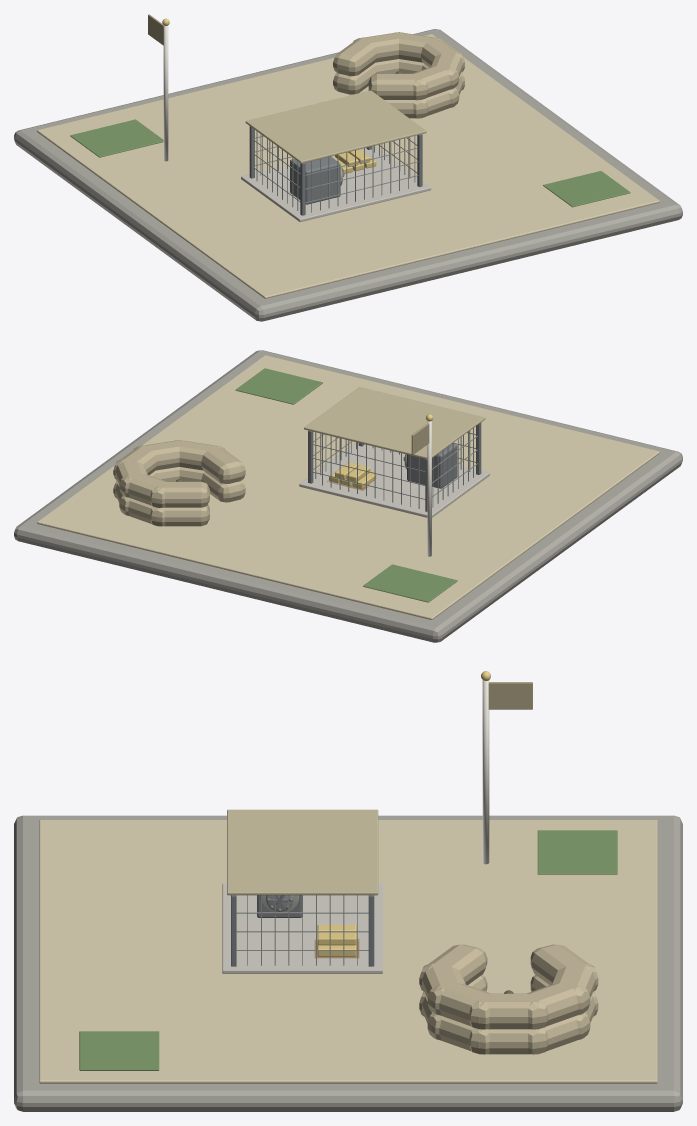
Rendered from goldvault_1.glb.
3 views of the same model, one above another, from view 1: azimuth 30°, elevation 25°; view 2: azimuth 150°, elevation 25°; view 3: azimuth 270°, elevation 25° (orthographic). The views are drawn at different scales.
Visible parts, largest first — view 1: Cube.001, Cube, Cube.067, Cube.004, Cube.002, Cube.003, Cube.068, Cube.087, Cube.085, Cube.089, Cylinder.002, Cube.083 (+5 smaller); view 2: Cube.001, Cube, Cube.067, Cube.004, Cube.002, Cube.003, Cube.068, Cube.085, Cube.087, Cube.084, Cube.083, Cube.089 (+6 smaller); view 3: Cube.001, Cube, Cube.067, Cube.004, Cube.002, Cube.003, Cube.079, Cube.081, Cube.091, Cube.078, Cube.085, Cube.087 (+6 smaller).
Boxes of the visible parts, bbox=[...] form: Cube.001: bbox=[37, 34, 659, 298]; Cube: bbox=[14, 29, 682, 321]; Cube.067: bbox=[245, 90, 426, 163]; Cube.004: bbox=[241, 146, 431, 221]; Cube.002: bbox=[70, 119, 163, 157]; Cube.003: bbox=[543, 171, 630, 207]; Cube.068: bbox=[290, 156, 340, 204]; Cube.087: bbox=[368, 73, 428, 99]; Cube.085: bbox=[333, 37, 377, 76]; Cube.089: bbox=[412, 64, 459, 100]; Cylinder.002: bbox=[163, 25, 168, 161]; Cube.083: bbox=[353, 32, 404, 62]; Cube.001: bbox=[37, 355, 659, 619]; Cube: bbox=[14, 350, 682, 642]; Cube.067: bbox=[304, 387, 485, 459]; Cube.004: bbox=[299, 442, 489, 517]; Cube.002: bbox=[363, 564, 457, 602]; Cube.003: bbox=[235, 368, 322, 404]; Cube.068: bbox=[407, 443, 457, 488]; Cube.085: bbox=[150, 481, 209, 507]; Cube.087: bbox=[201, 445, 245, 483]; Cube.084: bbox=[150, 504, 209, 526]; Cube.083: bbox=[119, 472, 169, 507]; Cube.089: bbox=[173, 440, 224, 470]; Cube.001: bbox=[39, 820, 657, 1083]; Cube: bbox=[14, 815, 682, 1111]; Cube.067: bbox=[227, 809, 378, 895]; Cube.004: bbox=[222, 883, 382, 973]; Cube.002: bbox=[537, 830, 617, 874]; Cube.003: bbox=[79, 1031, 159, 1070]; Cube.079: bbox=[469, 993, 548, 1029]; Cube.081: bbox=[521, 980, 590, 1029]; Cube.091: bbox=[427, 980, 495, 1029]; Cube.078: bbox=[469, 1028, 548, 1054]; Cube.085: bbox=[530, 944, 598, 991]; Cube.087: bbox=[419, 944, 487, 991].
Size of the model in its own units: 2.92 by 1.04 by 2.92.
